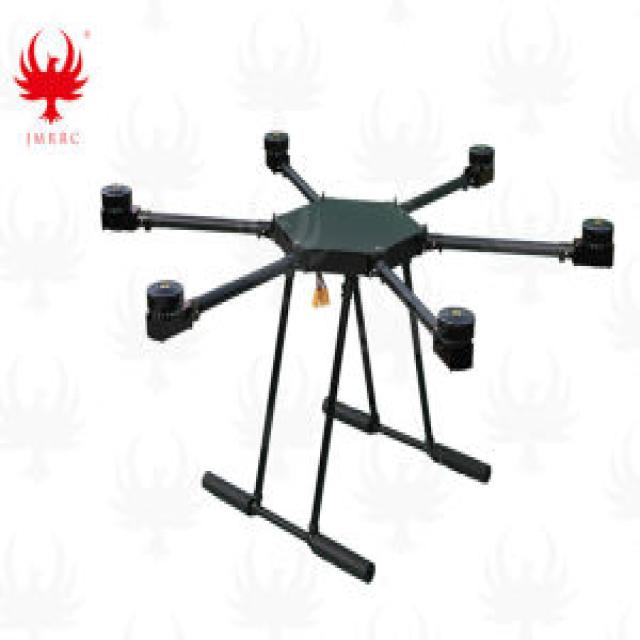drone: (72, 119, 640, 600)
